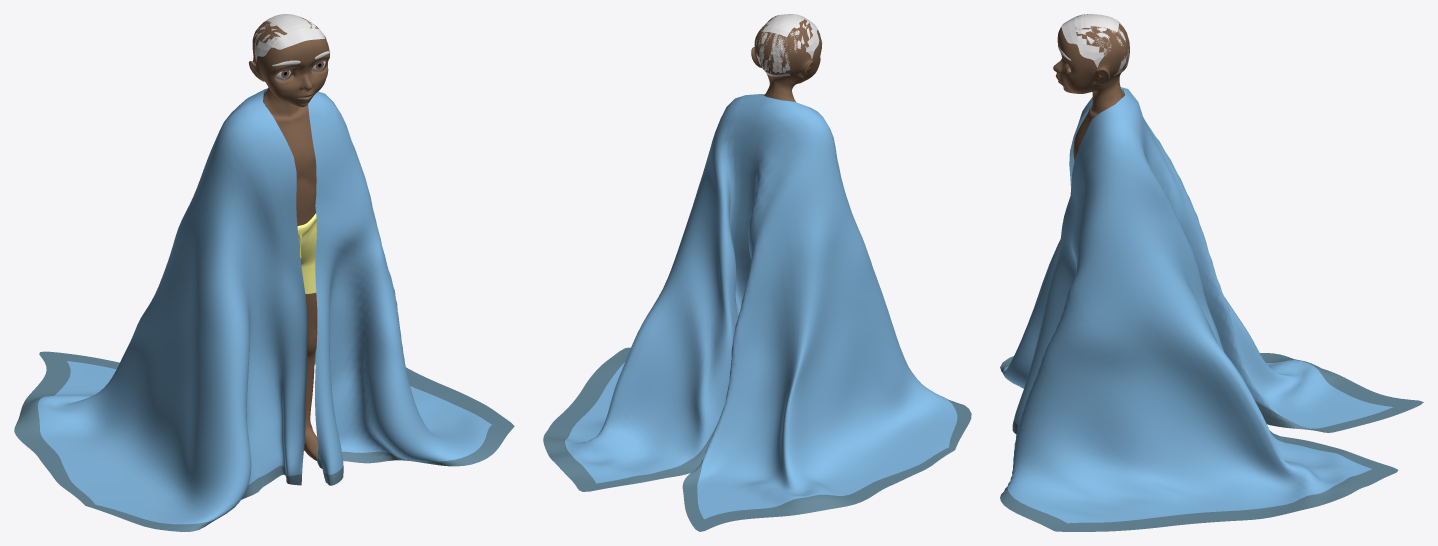
File: Character.fbx
3 renders of one model, left to right at view 1: azimuth 30°, elevation 25°; view 2: azimuth 150°, elevation 25°; view 3: azimuth 270°, elevation 25°, orthographic. The views are drawn at different scales.
Visible parts, largest first — view 1: Blanked, Body, Hair.002, Head.001; view 2: Blanked, Body, Hair.002; view 3: Blanked, Body, Hair.002.
Boxes of the visible parts, left/top/right/bottom form: Blanked: left=14, top=88, right=514, bottom=531; Body: left=249, top=17, right=329, bottom=460; Hair.002: left=253, top=14, right=326, bottom=62; Head.001: left=297, top=213, right=316, bottom=293; Blanked: left=543, top=94, right=971, bottom=531; Body: left=751, top=15, right=821, bottom=101; Hair.002: left=754, top=14, right=819, bottom=76; Blanked: left=1000, top=87, right=1423, bottom=531; Body: left=1053, top=14, right=1129, bottom=161; Hair.002: left=1061, top=14, right=1129, bottom=75.
Bounding box in the file's own units: 113 × 118 × 108.
